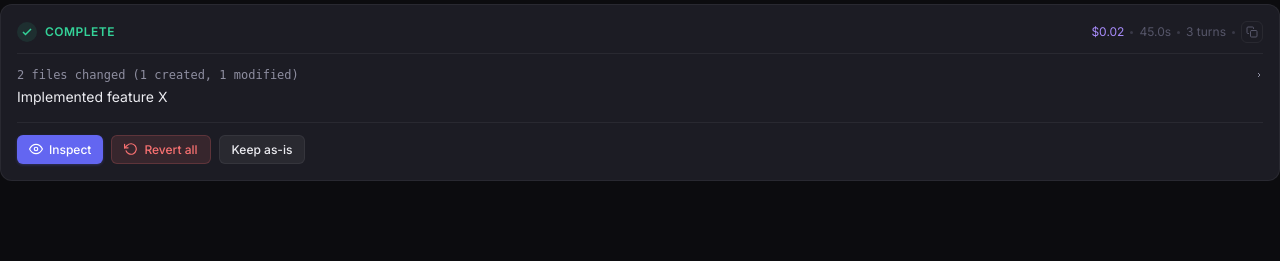
Test: CompletionCard › files changed › collapses file list on second click
This screenshot has width=1280, height=261.
Click the button "2 files changed (1 created, 1 modified)" at (42, 75), box [17, 64, 1263, 86]
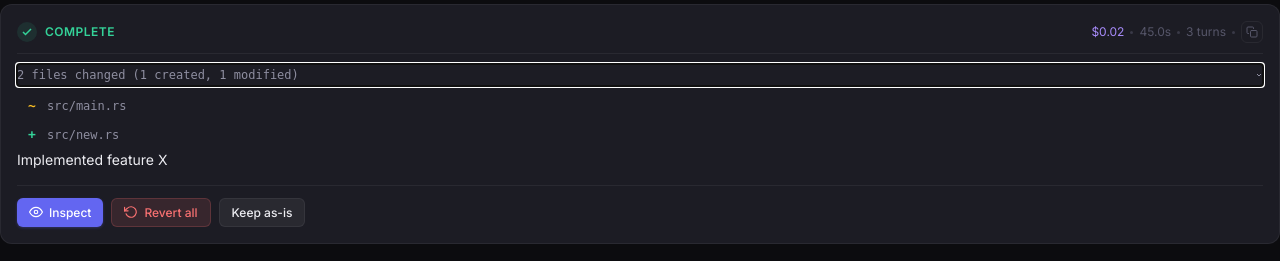
Now the text "src/main.rs" is shown, box [47, 97, 126, 115]
Click the button "2 files changed (1 created, 1 modified)" at (42, 75), box [17, 64, 1263, 86]
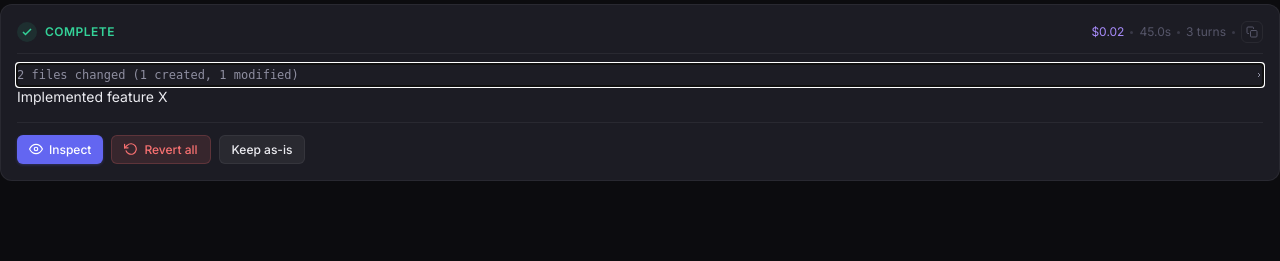
Now the text "src/main.rs" is gone
